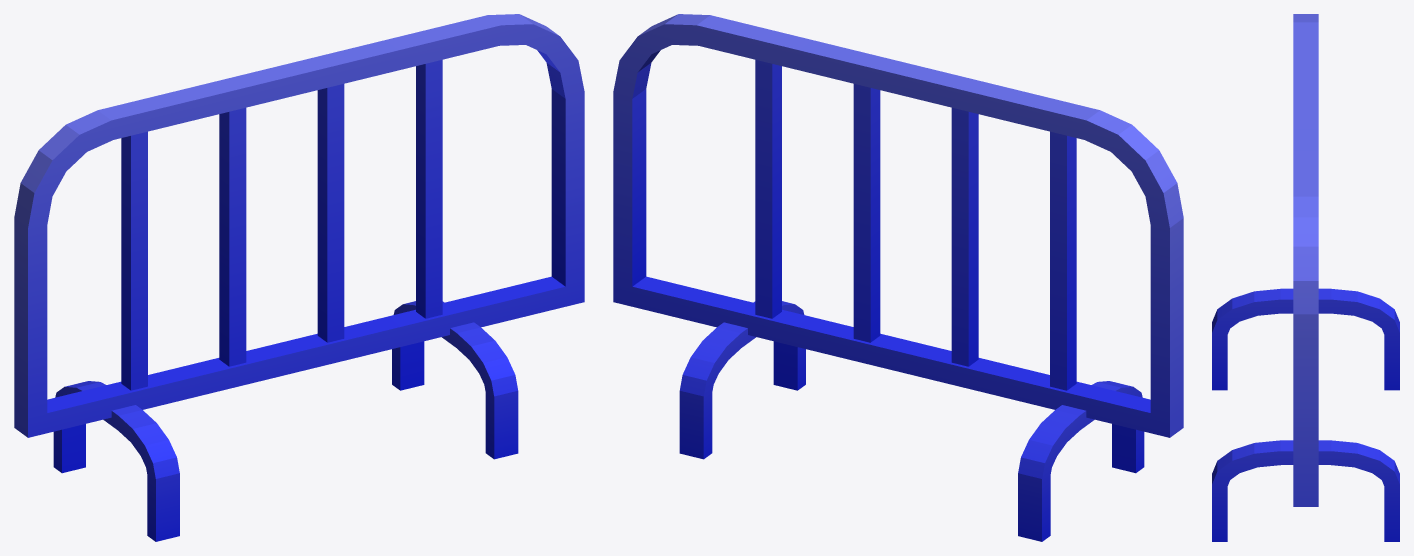
File: lpb_fence_13.fbx
The picture shows the model from 3 angles, left to right: view 1: azimuth 30°, elevation 25°; view 2: azimuth 150°, elevation 25°; view 3: azimuth 270°, elevation 25°; orthographic projection. The views are drawn at different scales.
Parts seen in each view (by area): view 1: fence13; view 2: fence13; view 3: fence13.
Part boxes in pixels (x1,y1,x2,y2): fence13: (14,14,584,541); fence13: (613,14,1183,541); fence13: (1212,14,1399,541).
Size of the model in its own units: 299 by 200 by 95.23.
